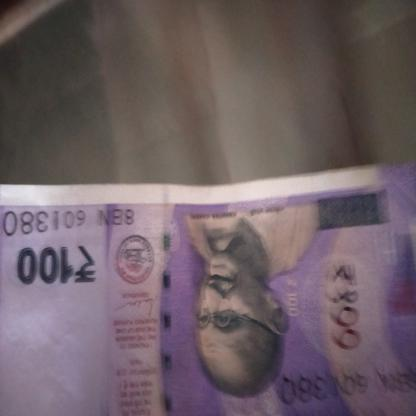New100Front: (7, 186, 415, 415)
